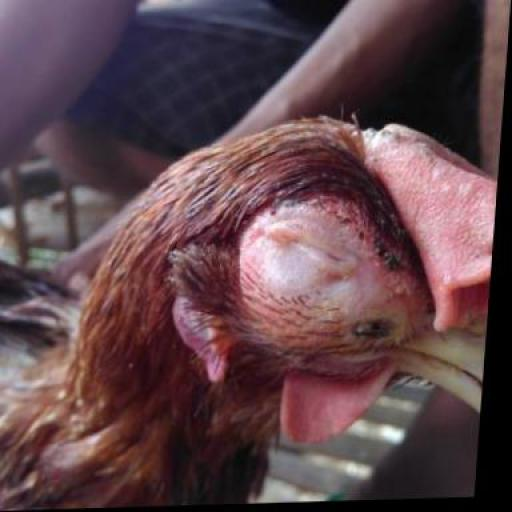disease: (233, 187, 426, 362)
